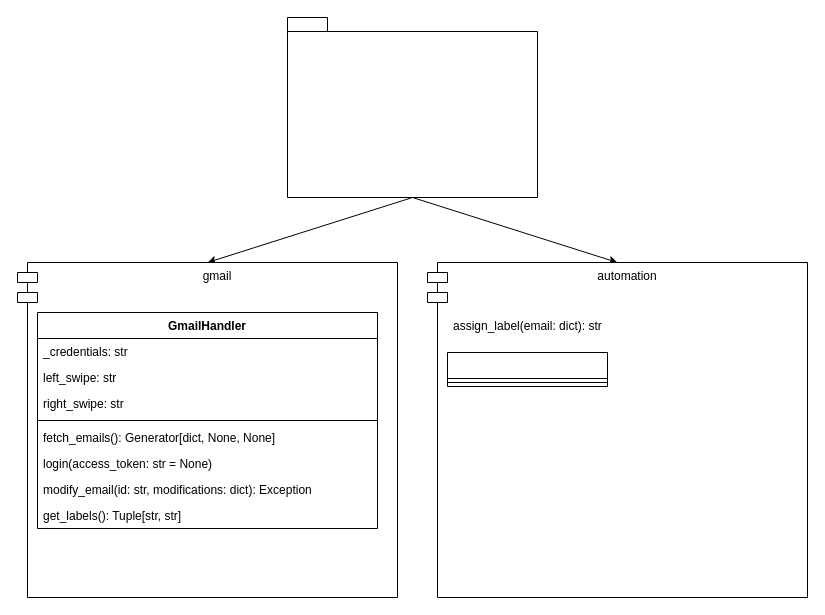
Some shapes in this 825 by 615 pixel diagram are drawn without their labels. Here are the shapes that lost their labels. From the top down, the centre of each, then its label:
At point 412,107: "mail_match".
At point 527,369: "Model".
